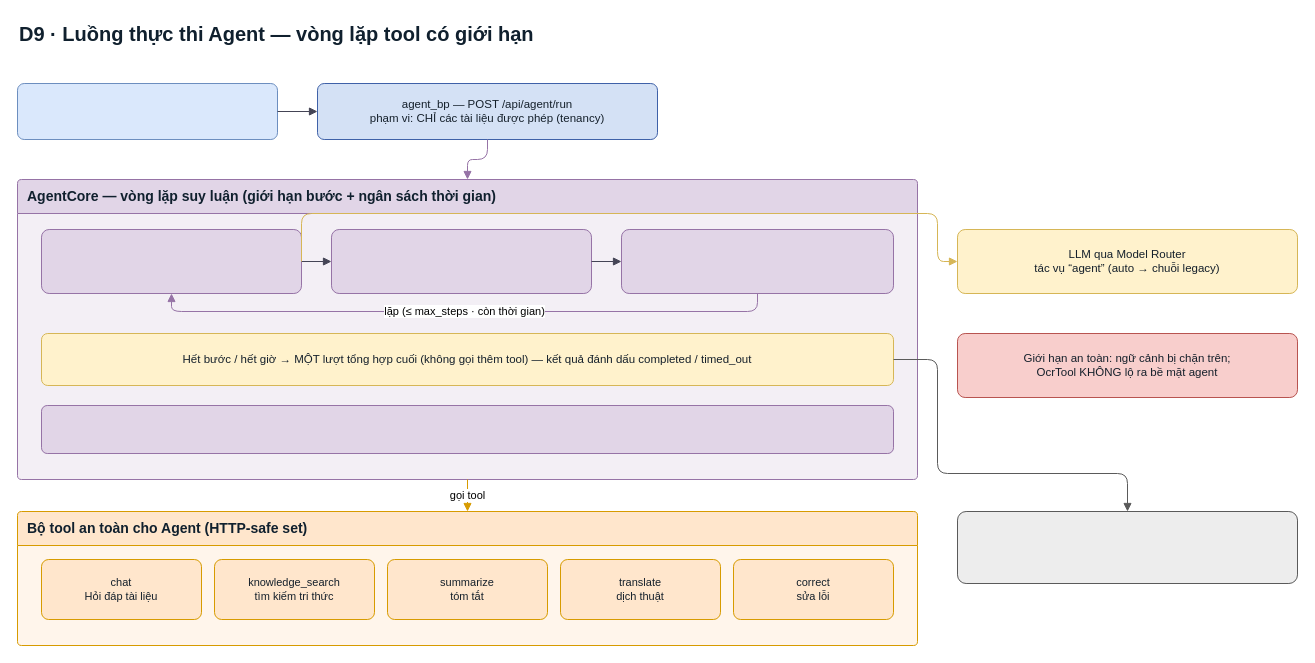
This 1315x663 diagram has some shape labels left out. Here are the shapes that lost their labels. From the top down, the centre of each, then its label:
At point (147, 111): "Trang Agent (giao diện riêng /agent)".
At point (171, 261): "1 · Suy nghĩ LLM chọn hành động kế tiếp".
At point (461, 261): "2 · Hành động gọi tool qua ToolRegistry".
At point (757, 261): "3 · Quan sát kết quả có cấu trúc của tool".
At point (467, 429): "Phát tiến trình run theo thời gian thực lên UI: thinking → acting → observation".
At point (1127, 547): "Kết quả + artifacts của run (không ghi đè artifact hiện có)".
